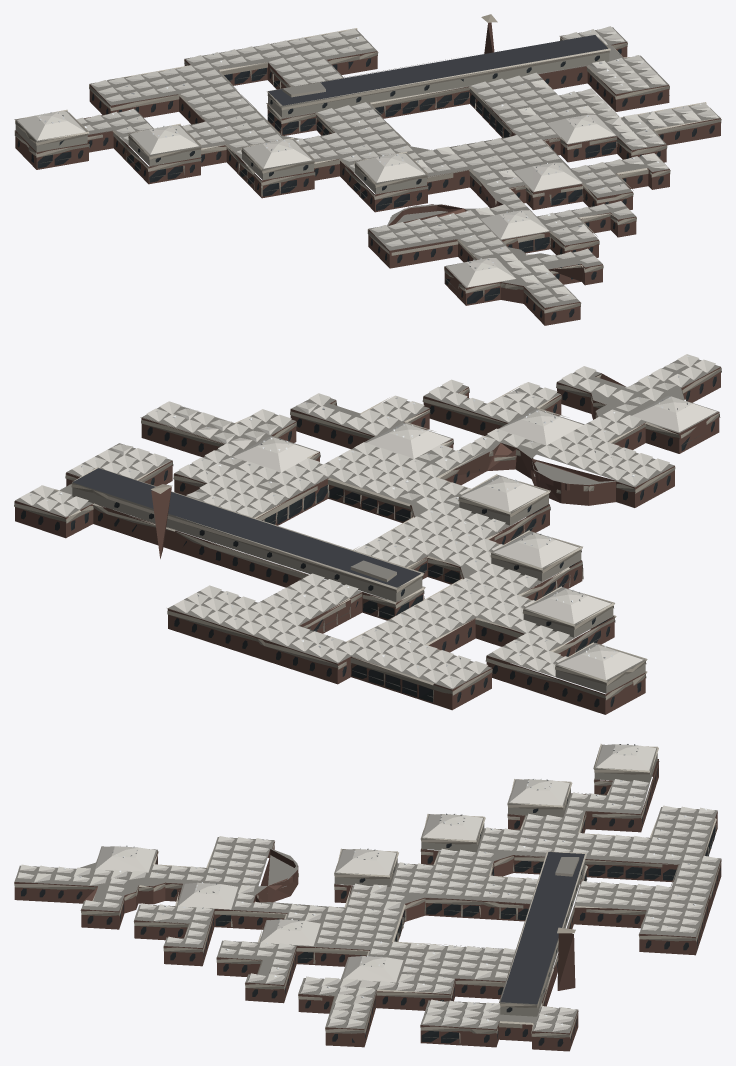
File: burgerweeshuis-van-eyck.lod1.glb
The picture shows the model from 3 angles, top to bottom: view 1: azimuth 30°, elevation 25°; view 2: azimuth 150°, elevation 25°; view 3: azimuth 270°, elevation 25°; orthographic projection. The views are drawn at different scales.
Visible parts, largest first — view 1: burgerweeshuis-van-eyck; view 2: burgerweeshuis-van-eyck; view 3: burgerweeshuis-van-eyck.
Part boxes in pixels (box(x1,y1,x2,y2)): burgerweeshuis-van-eyck: box(14, 14, 721, 325); burgerweeshuis-van-eyck: box(14, 354, 721, 714); burgerweeshuis-van-eyck: box(14, 743, 721, 1051).
Size of the model in its own units: 118 by 11.75 by 127.
